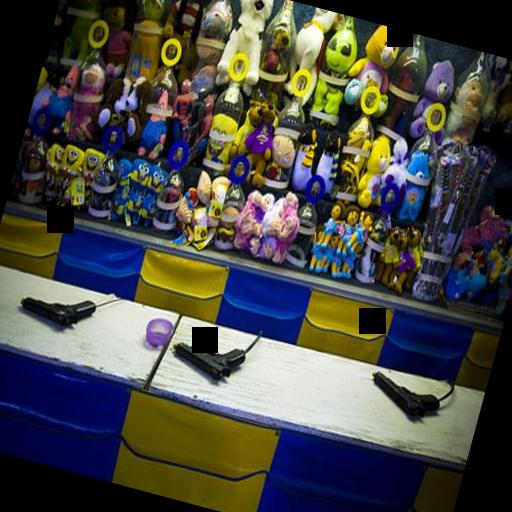Handgun: (160, 320, 248, 388), (361, 366, 446, 429), (14, 278, 97, 336)
